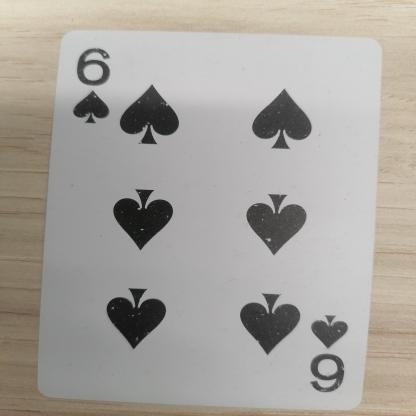6S: (54, 44, 144, 134), (297, 312, 374, 400)
